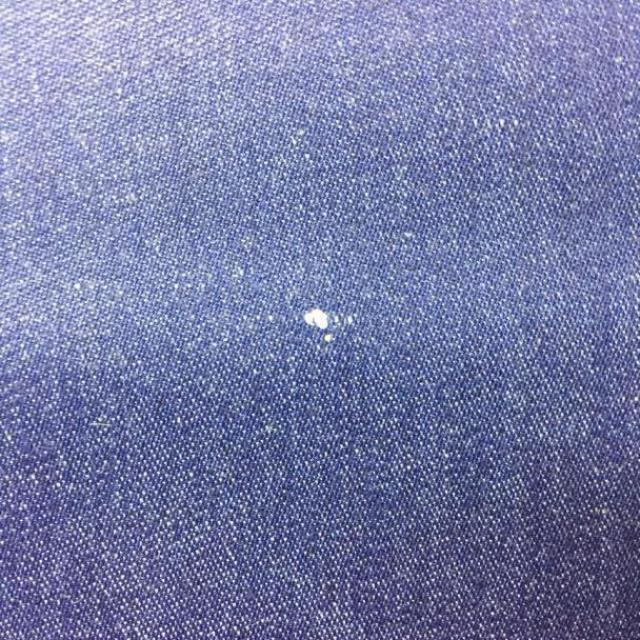Knot: (303, 307, 356, 332)
